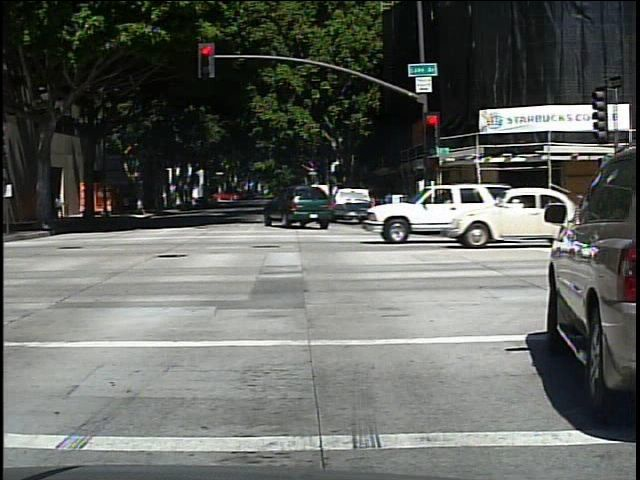person: (55, 189, 67, 223)
